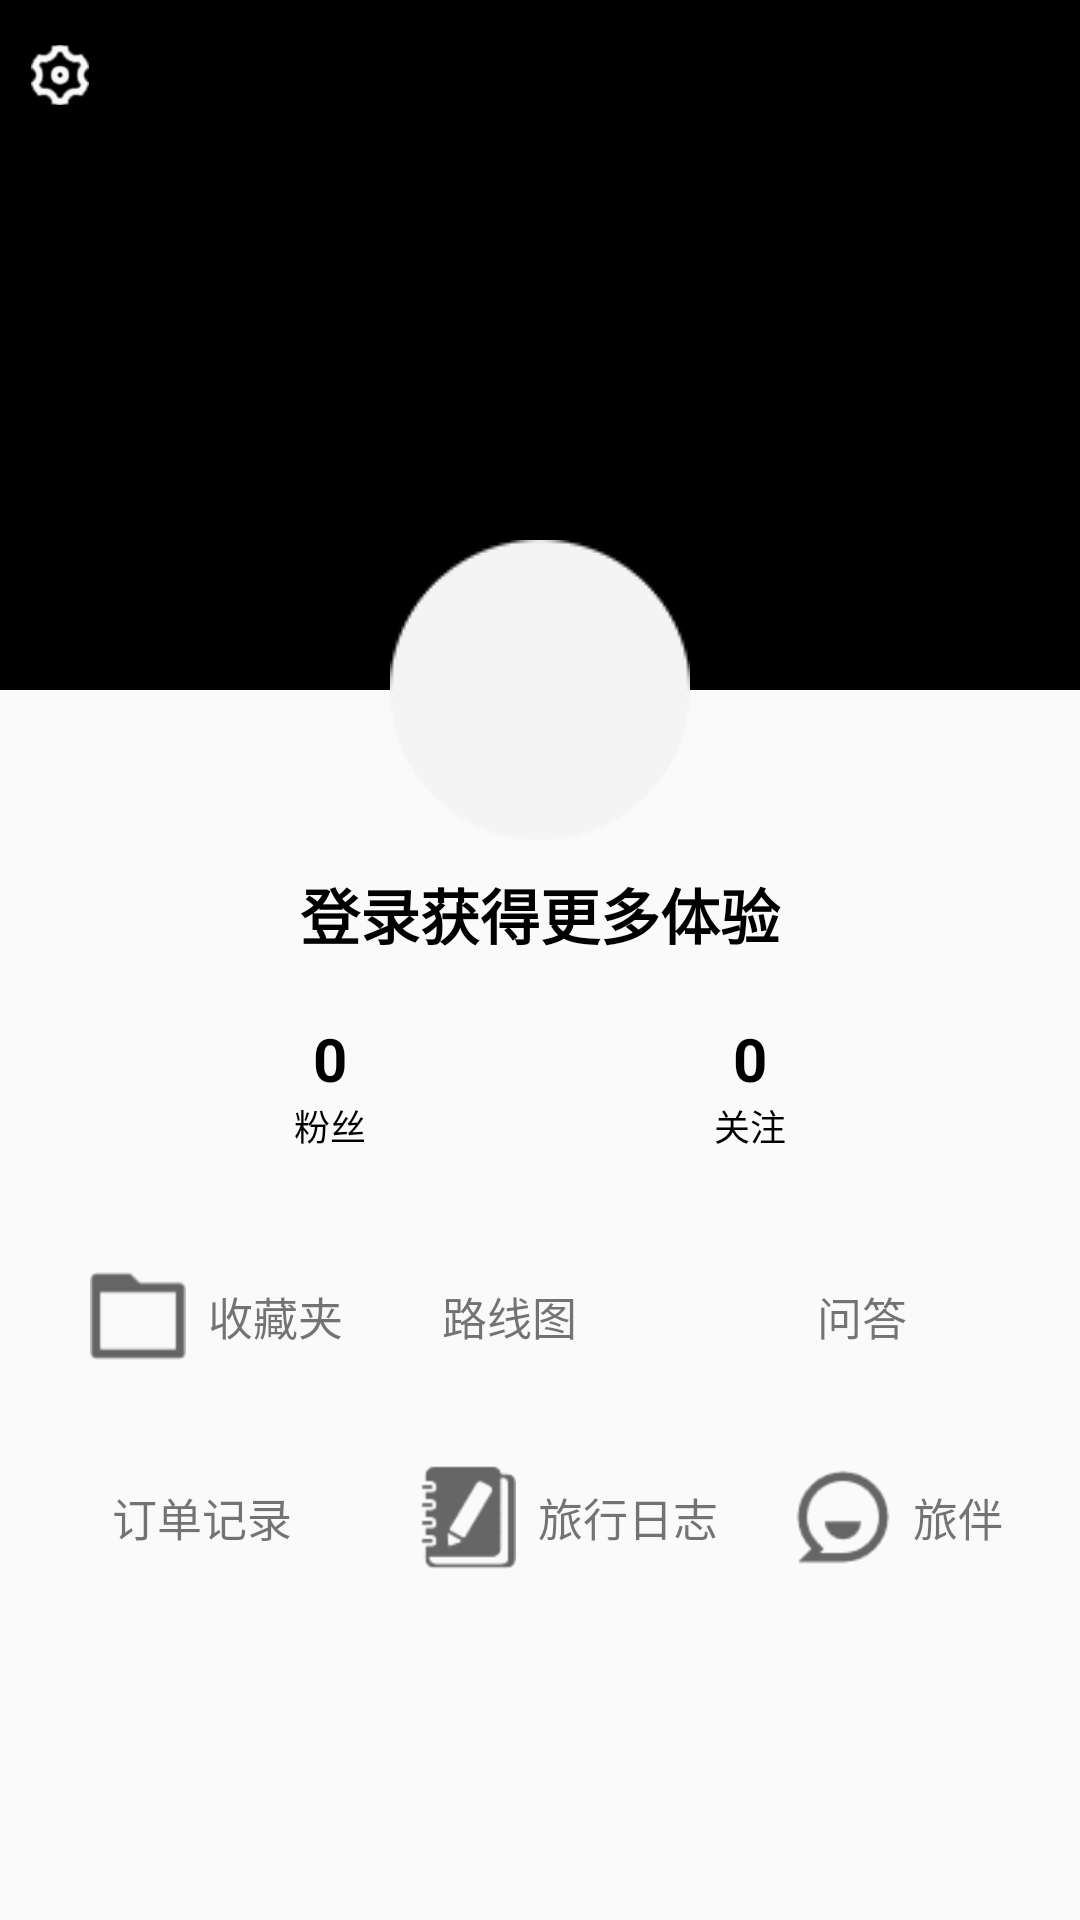

Icons on this 1080×1920 Android screen, each with its box as bbox=[x1, y1, x2, y2]:
setting: bbox=[31, 45, 89, 105]
